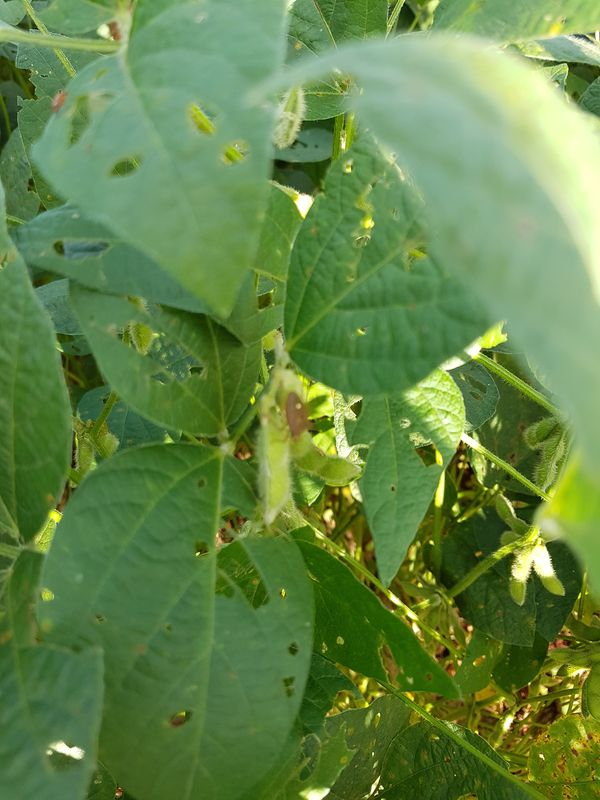Euschistus_heros_adulto: (270, 387, 325, 449)
